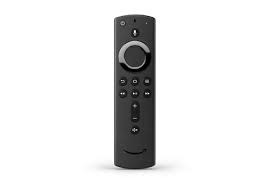remote control: (112, 15, 161, 172)
